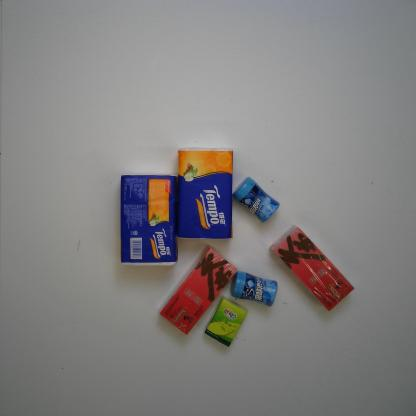Gum: (232, 174, 280, 224), (229, 270, 279, 308)
Instant Drink: (268, 224, 356, 313), (158, 243, 238, 336)
Tissue: (118, 172, 179, 268), (176, 145, 235, 241), (203, 295, 249, 348)
